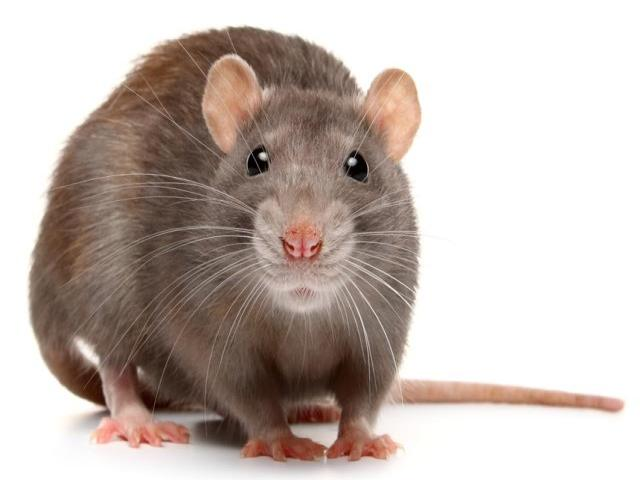Tikus: (22, 24, 500, 463)
